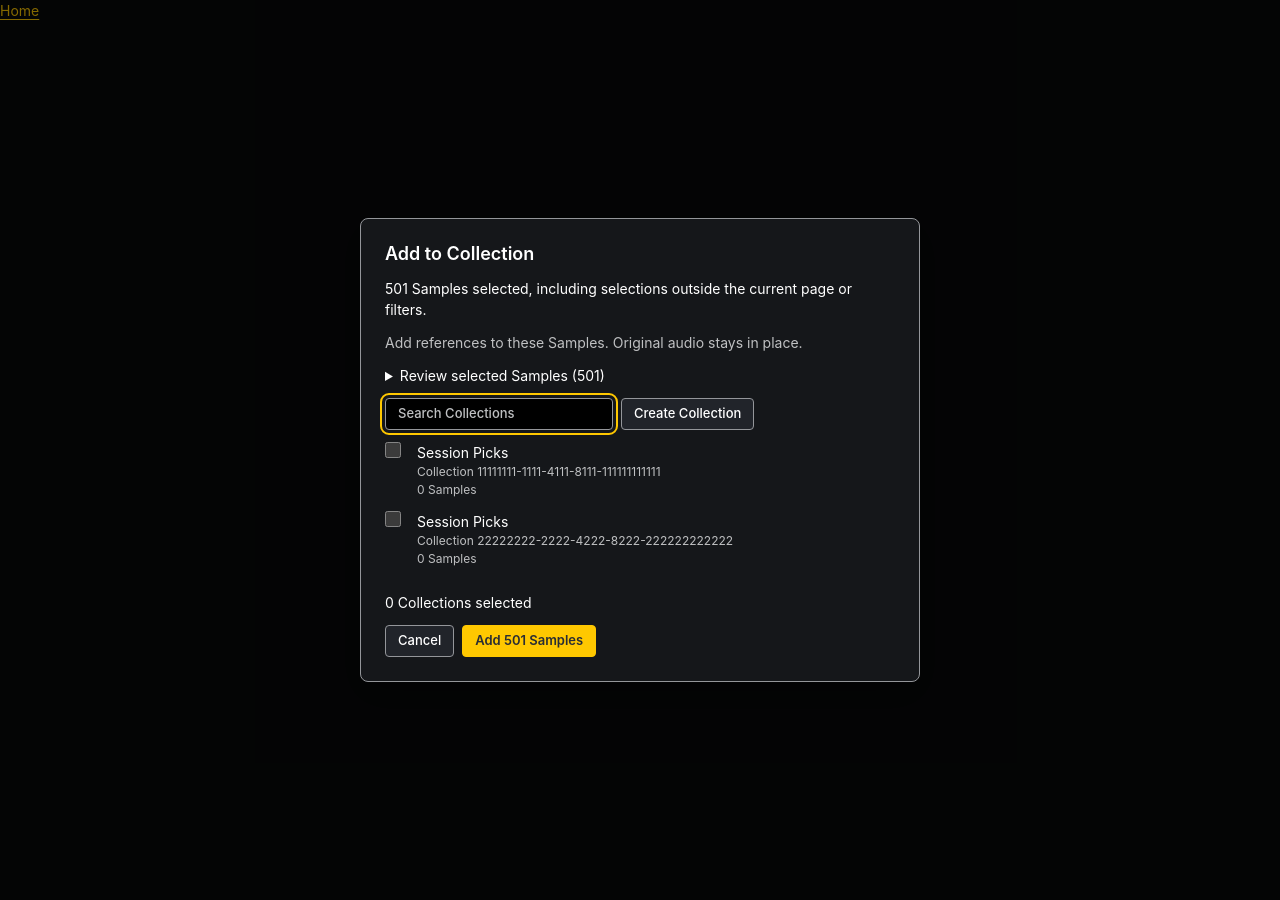
it: excessive Sample and destination combinations fail explicitly without truncating or starting writes
What coordinates should you click on to do the following:
click the checkbox labelled "11111111-1111-4111-8111-111111111111"
I would click on:
 (393, 450)
Its box is [385,442,401,458].
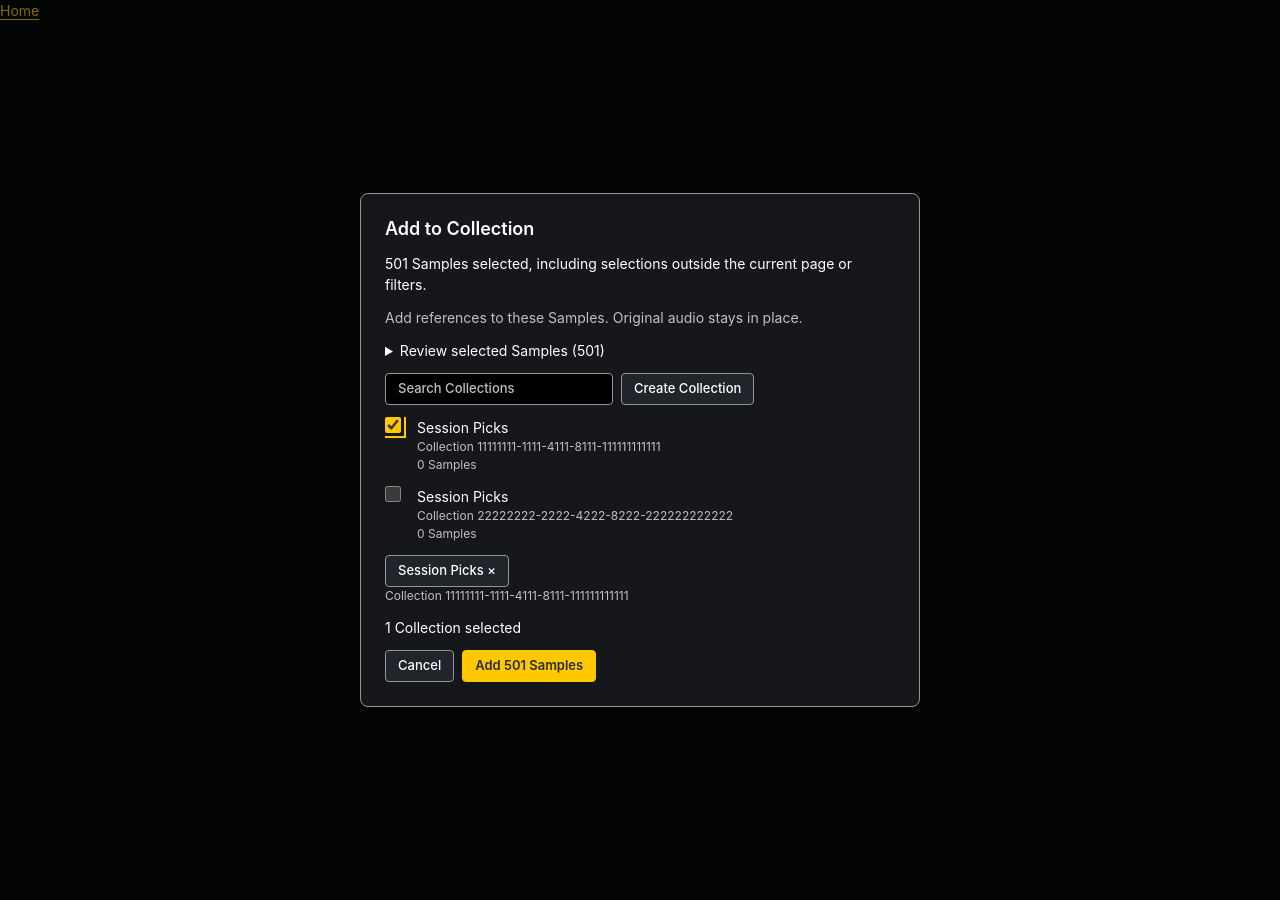
What coordinates should you click on to do the following:
click the checkbox labelled "22222222-2222-4222-8222-222222222222"
I would click on:
 (393, 494)
Its box is [385,486,401,502].
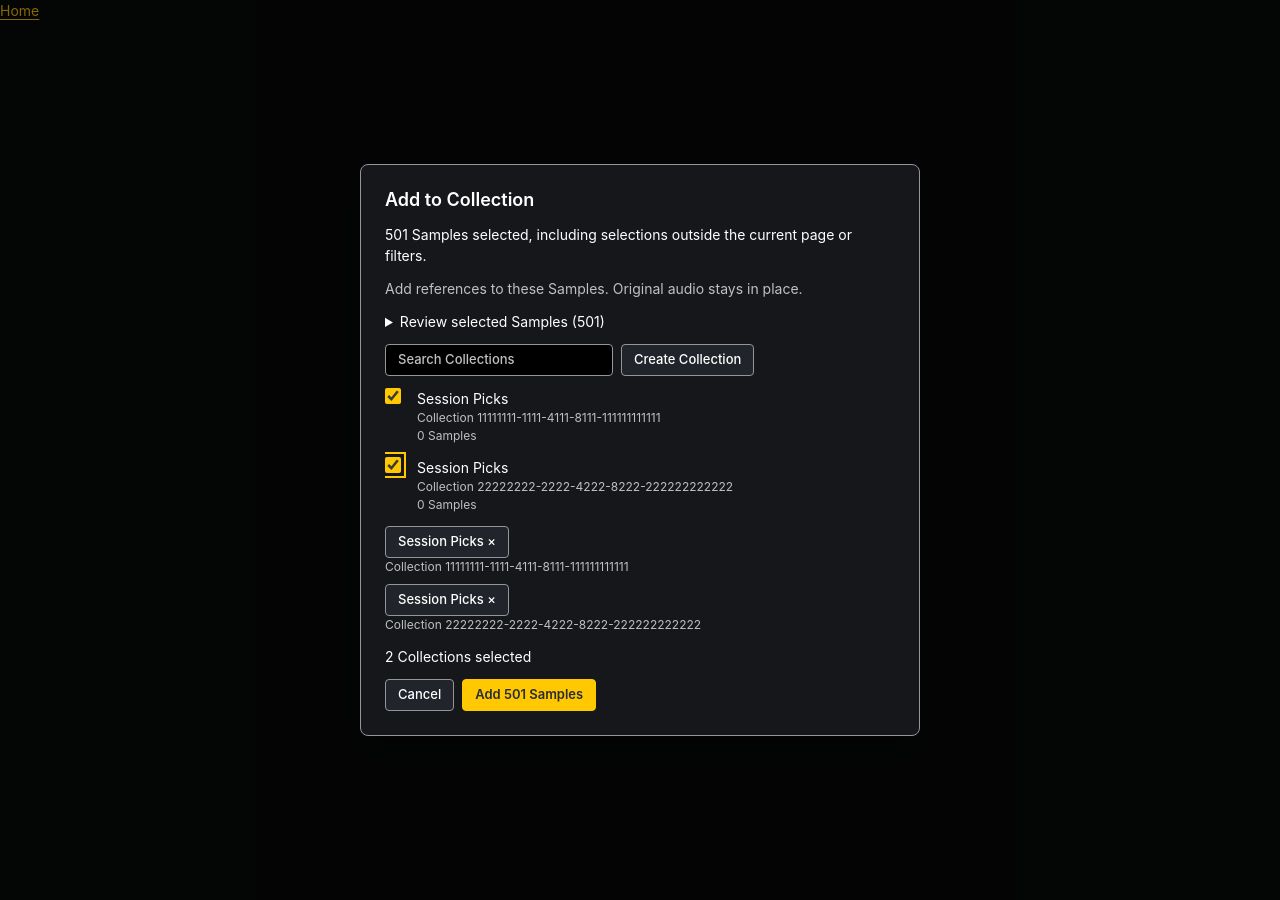
What coordinates should you click on to do the following:
click the button "Add 501 Samples"
I would click on:
 (529, 695)
Its box is [462,679,596,711].
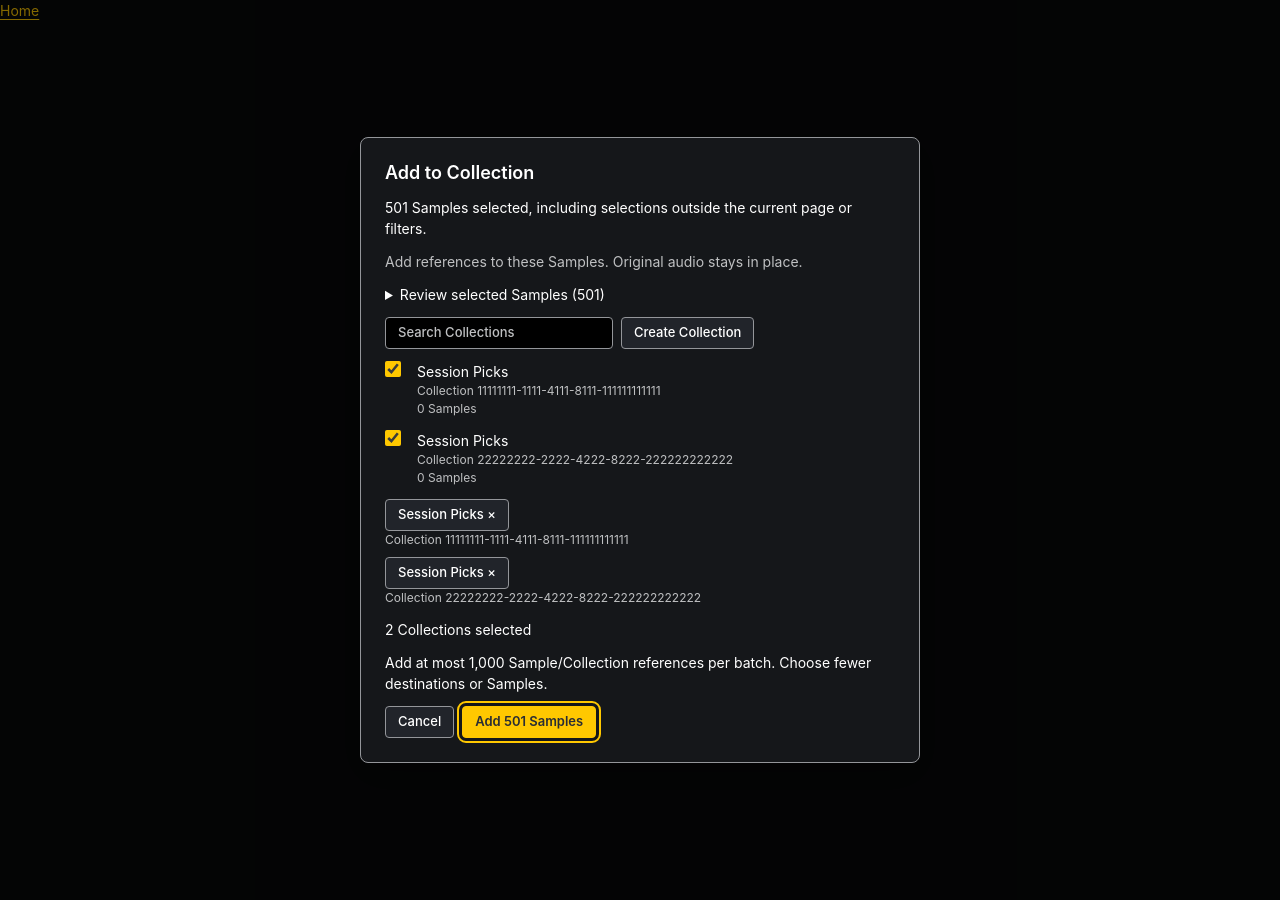
Expected: the message shows "Add at most 1,000 Sample/Collection references per batch.", [385,654,871,692]
